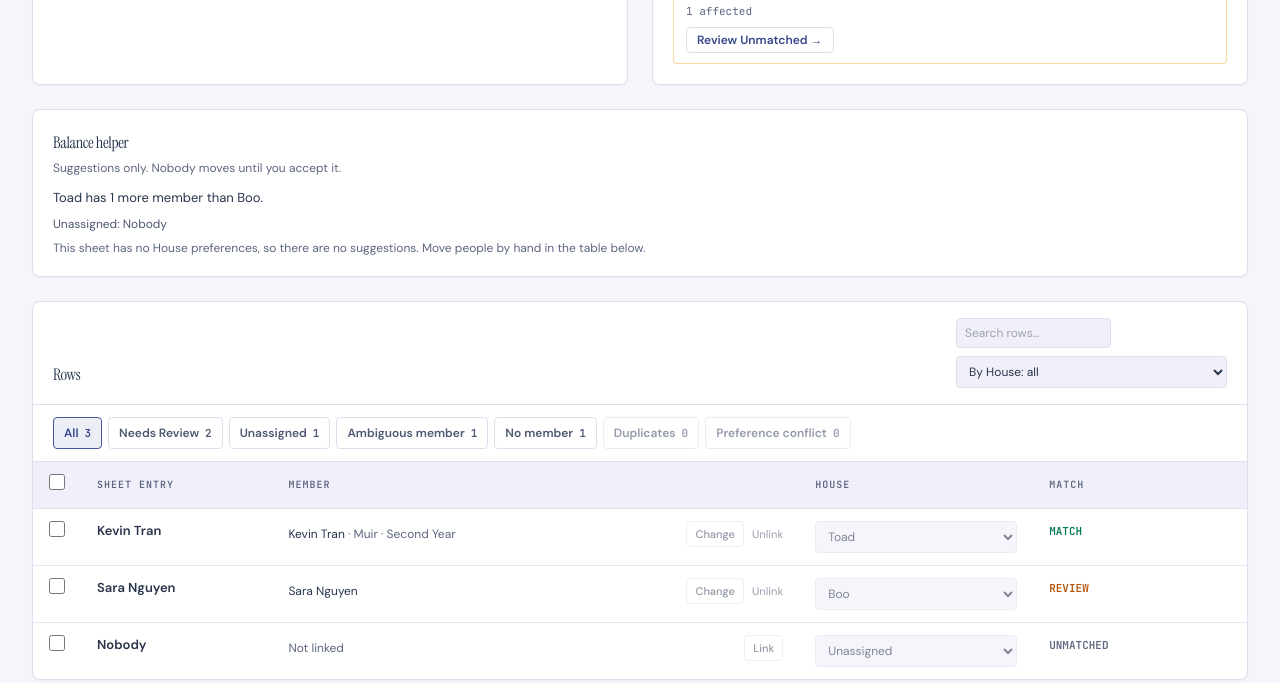
filters, bulk actions, and history › offers no assign or clear actions on a locked batch
This screenshot has width=1280, height=683.
(page scrolled)
Click the checkbox named "Select Kevin Tran": (57, 529) [49,521,65,537]
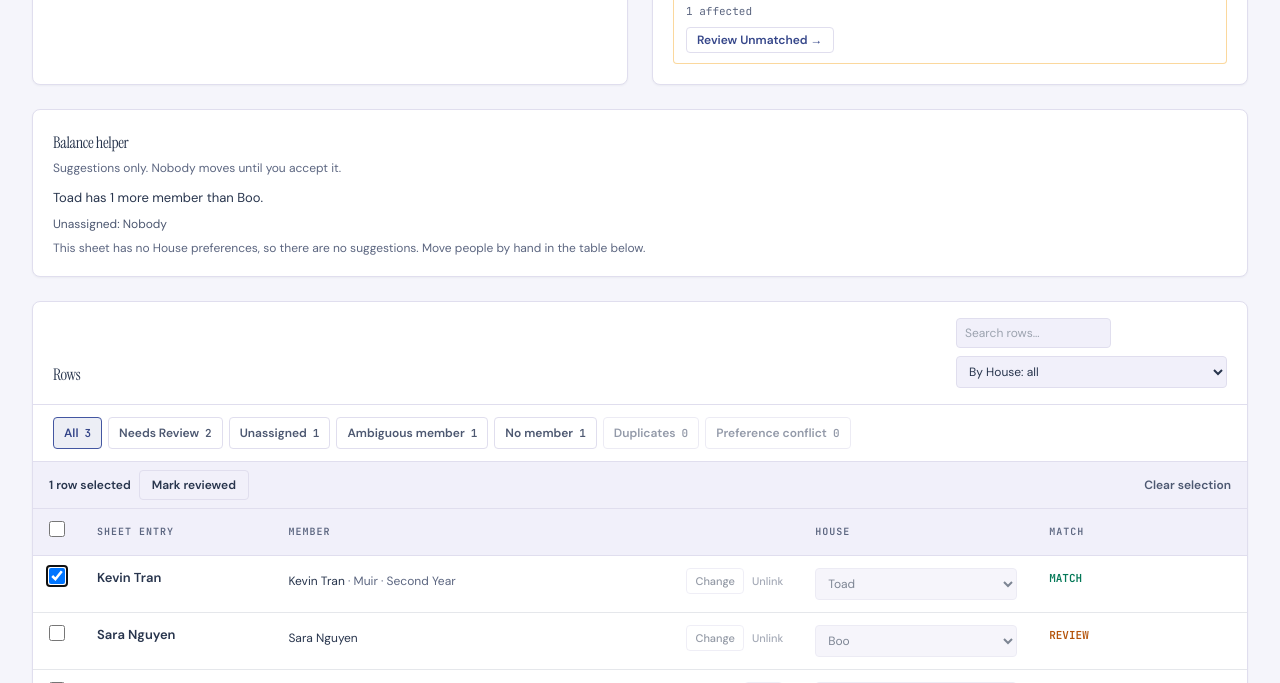
Now the button "Mark reviewed" is shown, box [139,470,249,500]
